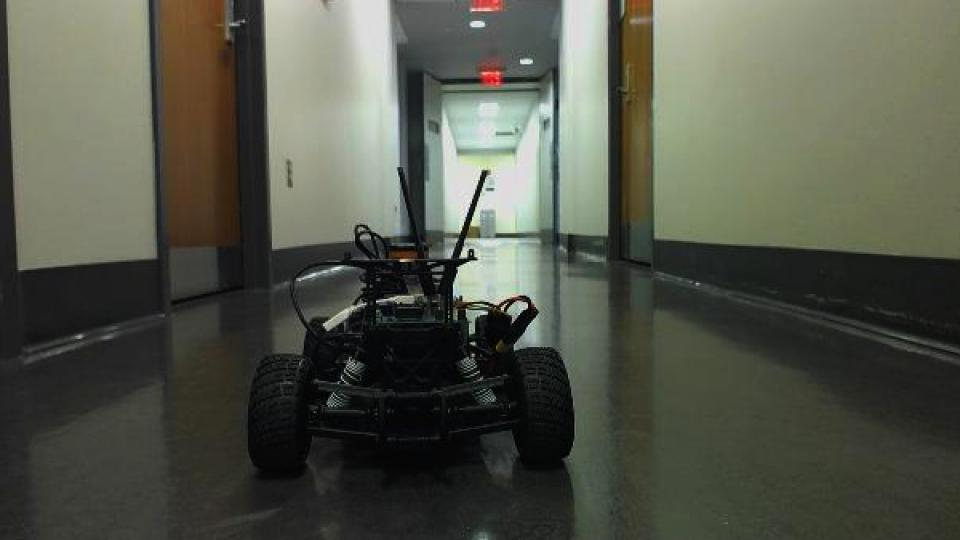car: (245, 164, 579, 477)
